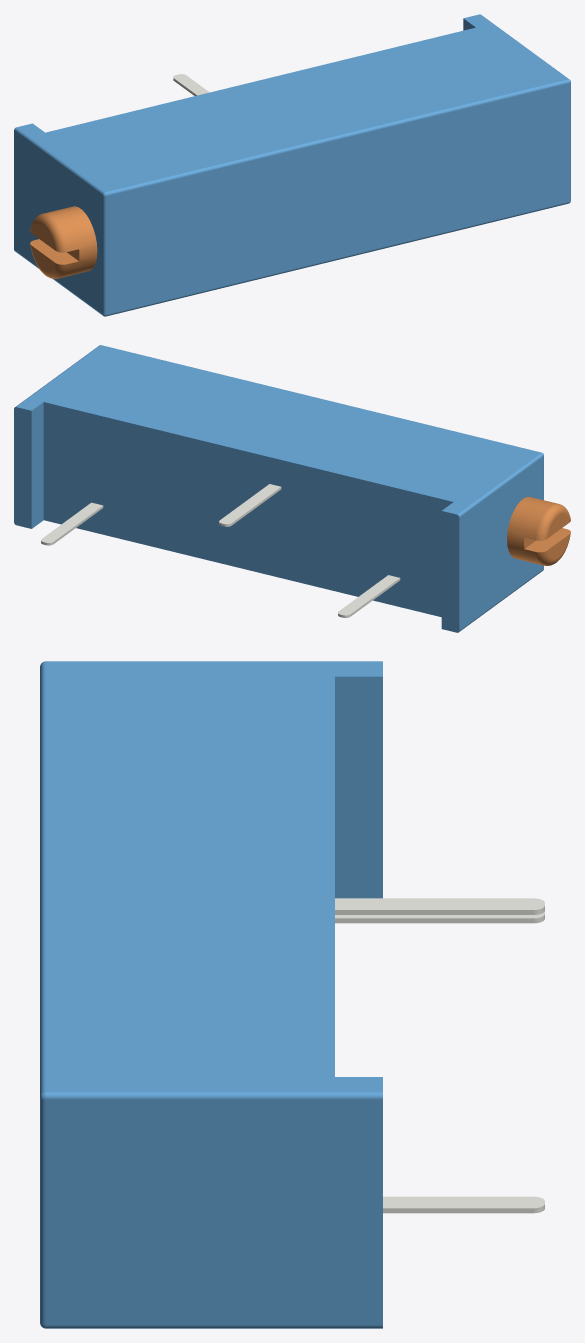
Rendered from Potentiometer_Bourns_3006P_Horizontal.glb.
3 views of the same model, one above another, from view 1: azimuth 30°, elevation 25°; view 2: azimuth 150°, elevation 25°; view 3: azimuth 270°, elevation 25° (orthographic). The views are drawn at different scales.
Visible parts, largest first — view 1: Shape_IndexedFaceSet, Shape_IndexedFaceSet.006, Shape_IndexedFaceSet.010, Shape_IndexedFaceSet.001, Shape_IndexedFaceSet.022, Shape_IndexedFaceSet.004, Shape_IndexedFaceSet.039, Shape_IndexedFaceSet.003, Shape_IndexedFaceSet.014, Shape_IndexedFaceSet.036; view 2: Shape_IndexedFaceSet.018, Shape_IndexedFaceSet.006, Shape_IndexedFaceSet.010, Shape_IndexedFaceSet.015, Shape_IndexedFaceSet.017, Shape_IndexedFaceSet.022, Shape_IndexedFaceSet.019, Shape_IndexedFaceSet.025, Shape_IndexedFaceSet.031, Shape_IndexedFaceSet.029, Shape_IndexedFaceSet.039, Shape_IndexedFaceSet.014 (+2 smaller); view 3: Shape_IndexedFaceSet.006, Shape_IndexedFaceSet.009, Shape_IndexedFaceSet.016, Shape_IndexedFaceSet.013, Shape_IndexedFaceSet.001, Shape_IndexedFaceSet.031, Shape_IndexedFaceSet.029, Shape_IndexedFaceSet.002, Shape_IndexedFaceSet.020, Shape_IndexedFaceSet.024, Shape_IndexedFaceSet.034, Shape_IndexedFaceSet.028 (+1 smaller).
Part boxes in pixels (<box>): Shape_IndexedFaceSet: <box>106,83,569,314</box>; Shape_IndexedFaceSet.006: <box>17,14,567,191</box>; Shape_IndexedFaceSet.010: <box>14,131,102,313</box>; Shape_IndexedFaceSet.001: <box>105,79,569,195</box>; Shape_IndexedFaceSet.022: <box>45,206,97,278</box>; Shape_IndexedFaceSet.004: <box>106,202,569,316</box>; Shape_IndexedFaceSet.039: <box>30,213,66,252</box>; Shape_IndexedFaceSet.003: <box>102,196,106,314</box>; Shape_IndexedFaceSet.014: <box>14,127,104,195</box>; Shape_IndexedFaceSet.036: <box>30,239,78,264</box>; Shape_IndexedFaceSet.018: <box>43,402,453,617</box>; Shape_IndexedFaceSet.006: <box>17,345,540,514</box>; Shape_IndexedFaceSet.010: <box>459,456,543,630</box>; Shape_IndexedFaceSet.015: <box>441,511,459,632</box>; Shape_IndexedFaceSet.017: <box>14,407,31,528</box>; Shape_IndexedFaceSet.022: <box>507,496,556,565</box>; Shape_IndexedFaceSet.019: <box>31,402,43,528</box>; Shape_IndexedFaceSet.025: <box>338,575,399,615</box>; Shape_IndexedFaceSet.031: <box>219,484,280,524</box>; Shape_IndexedFaceSet.029: <box>41,502,102,542</box>; Shape_IndexedFaceSet.039: <box>536,503,570,540</box>; Shape_IndexedFaceSet.014: <box>457,453,543,517</box>; Shape_IndexedFaceSet.006: <box>45,661,382,1091</box>; Shape_IndexedFaceSet.009: <box>45,1099,382,1325</box>; Shape_IndexedFaceSet.016: <box>335,676,382,898</box>; Shape_IndexedFaceSet.013: <box>45,1091,382,1099</box>; Shape_IndexedFaceSet.001: <box>40,662,45,1095</box>; Shape_IndexedFaceSet.031: <box>335,898,544,909</box>; Shape_IndexedFaceSet.029: <box>383,1196,544,1208</box>; Shape_IndexedFaceSet.002: <box>40,1097,45,1325</box>; Shape_IndexedFaceSet.020: <box>45,1325,382,1328</box>; Shape_IndexedFaceSet.024: <box>335,918,533,923</box>; Shape_IndexedFaceSet.034: <box>335,910,533,914</box>; Shape_IndexedFaceSet.028: <box>383,1208,533,1213</box>.
Size of the model in its own units: 8.1 by 1.9 by 3.68.
